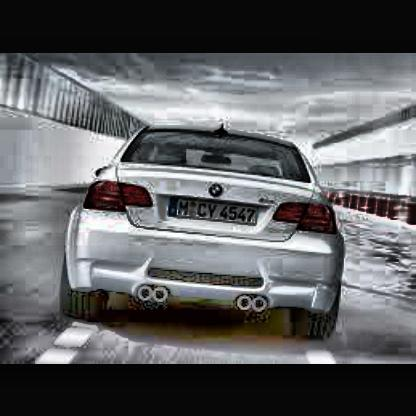BMW M3 Coupe 2012: (60, 122, 349, 338)
